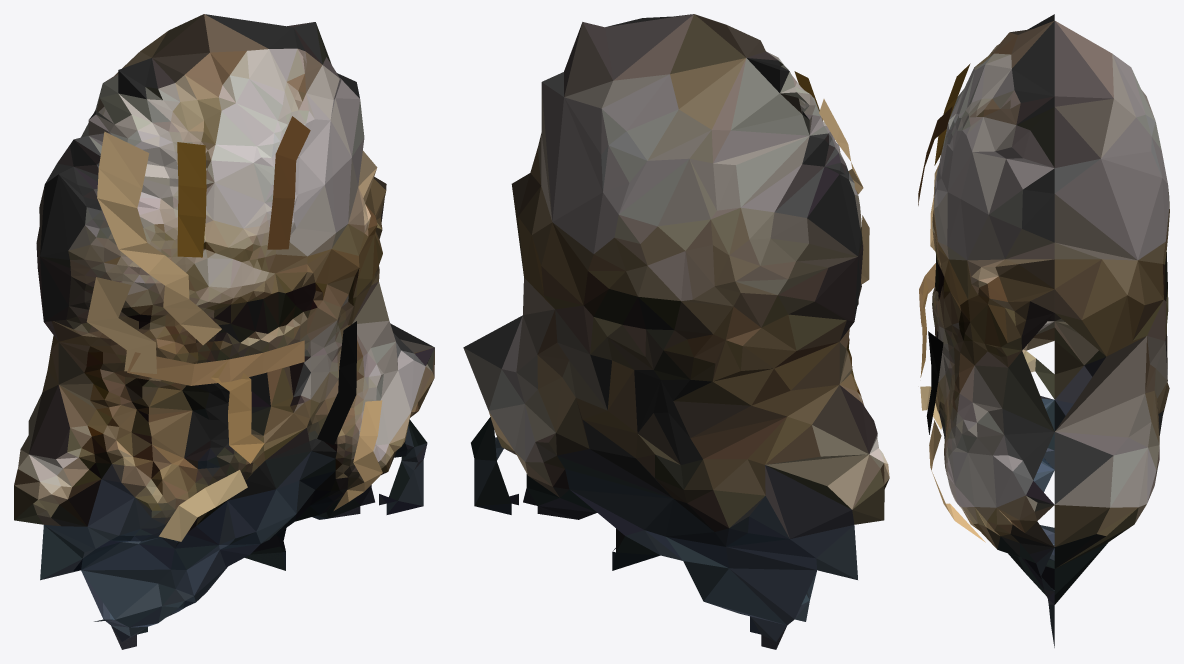
3 views of the same model, side by side, from view 1: azimuth 30°, elevation 25°; view 2: azimuth 150°, elevation 25°; view 3: azimuth 270°, elevation 25° (orthographic). The views are drawn at different scales.
Visible parts, largest first — view 1: object 2, detail; view 2: object 2, detail; view 3: object 2, detail.
Boxes of the visible parts, bbox=[...] form: object 2: bbox=[14, 14, 434, 649]; detail: bbox=[86, 116, 382, 541]; object 2: bbox=[463, 14, 889, 649]; detail: bbox=[794, 71, 869, 284]; object 2: bbox=[932, 14, 1169, 647]; detail: bbox=[918, 63, 985, 542].
Bounding box in the file's own units: 113 × 158 × 60.75.
